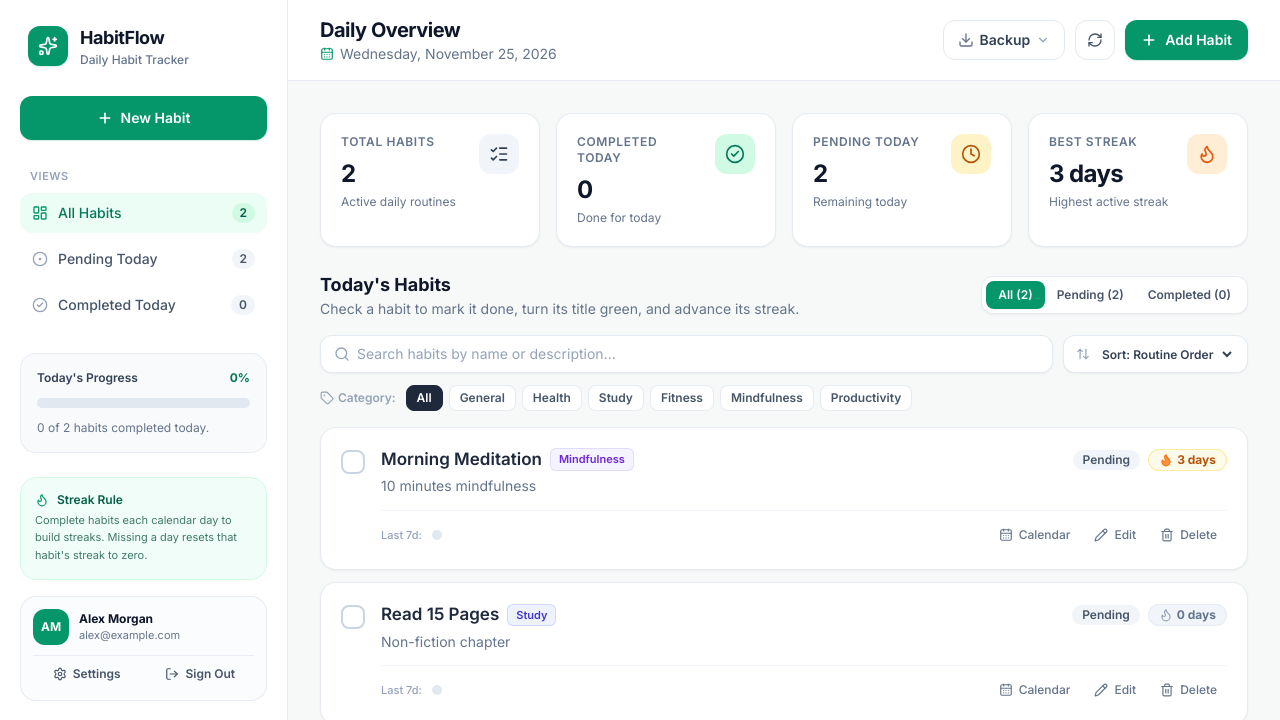
Test case: HabitFlow v2.0 Production UI: Auth, Multi-User Dashboard, Search/Sort & Heatmap › supports search, category filtering, adding categorized habits, and deleting with confirmation
Later steps or results of the test are not shown.
Expected: the checkbox "Morning Meditation" is shown, [381,448,542,471]
Type "Pages" into the search field labelled "Search habits by name or description..." at {"x": 686, "y": 354}, box [320,335,1053,373]
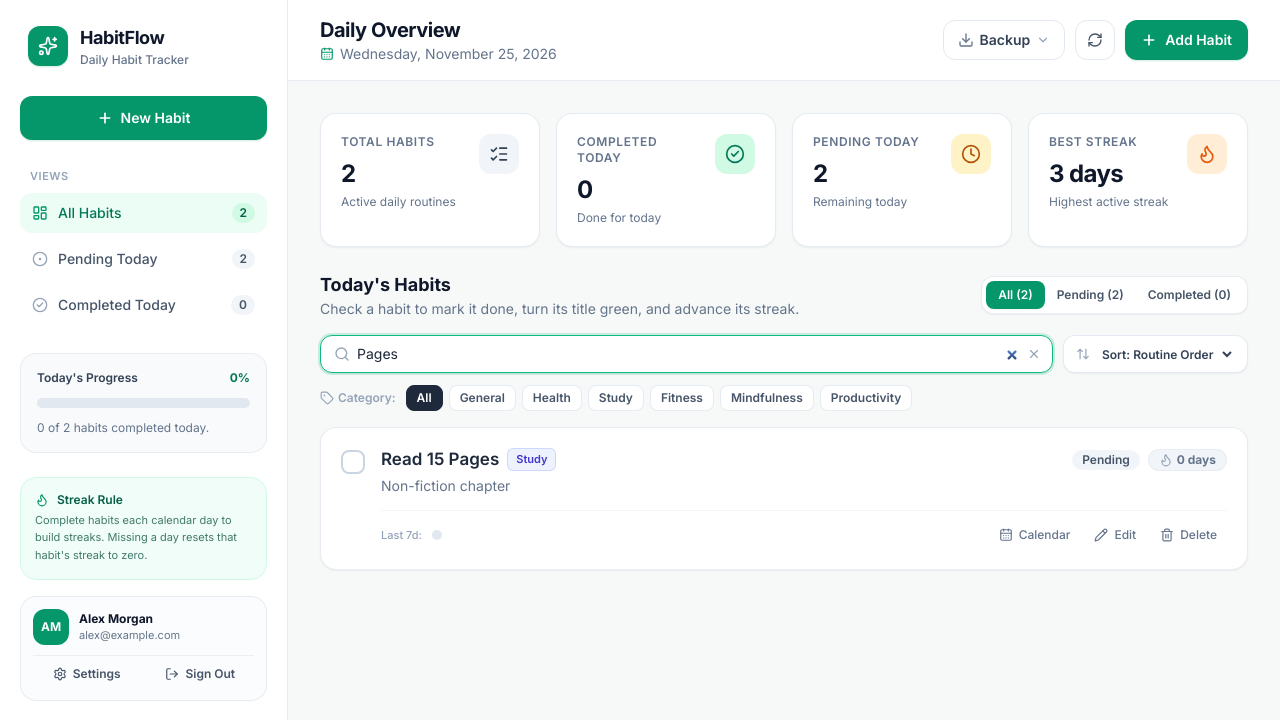
Expected: the checkbox "Read 15 Pages" is shown, [381,448,499,471]
Expected: the checkbox "Morning Meditation" is gone
Click the button named "Clear search" at {"x": 1034, "y": 354}, box [1025,345,1043,363]
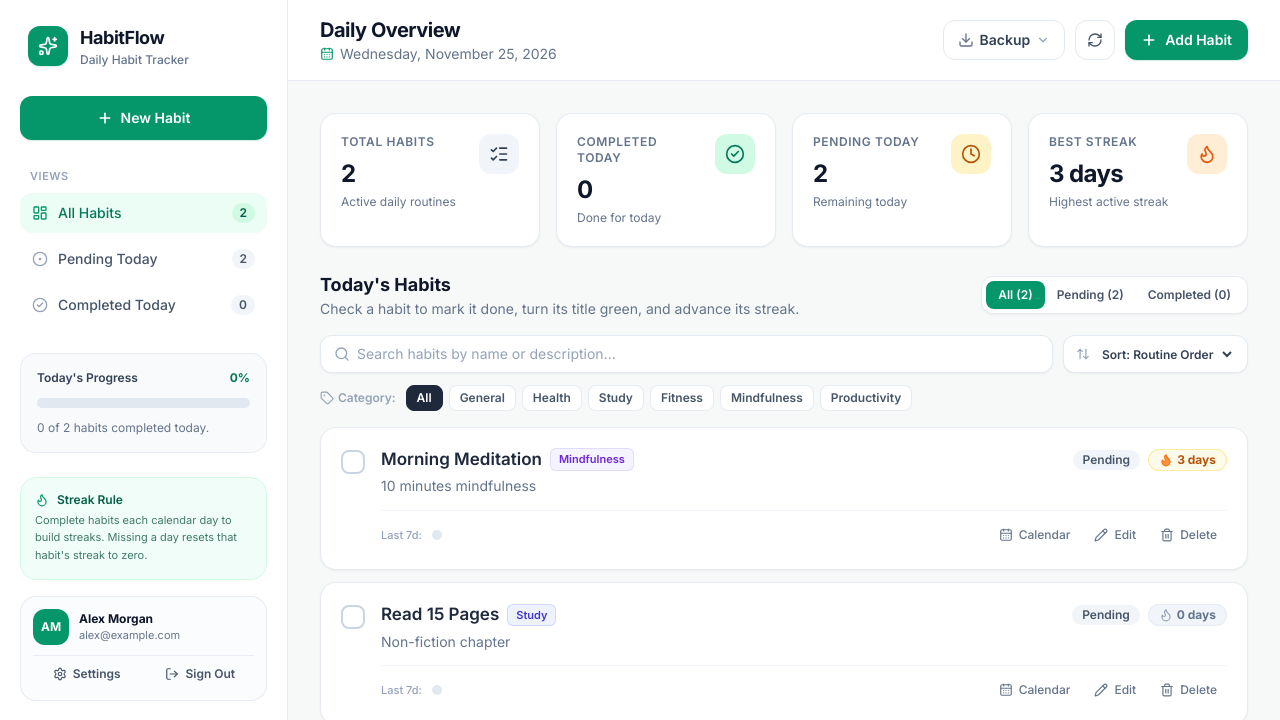
Click the button "Study" at {"x": 616, "y": 398}, box [588,385,644,411]
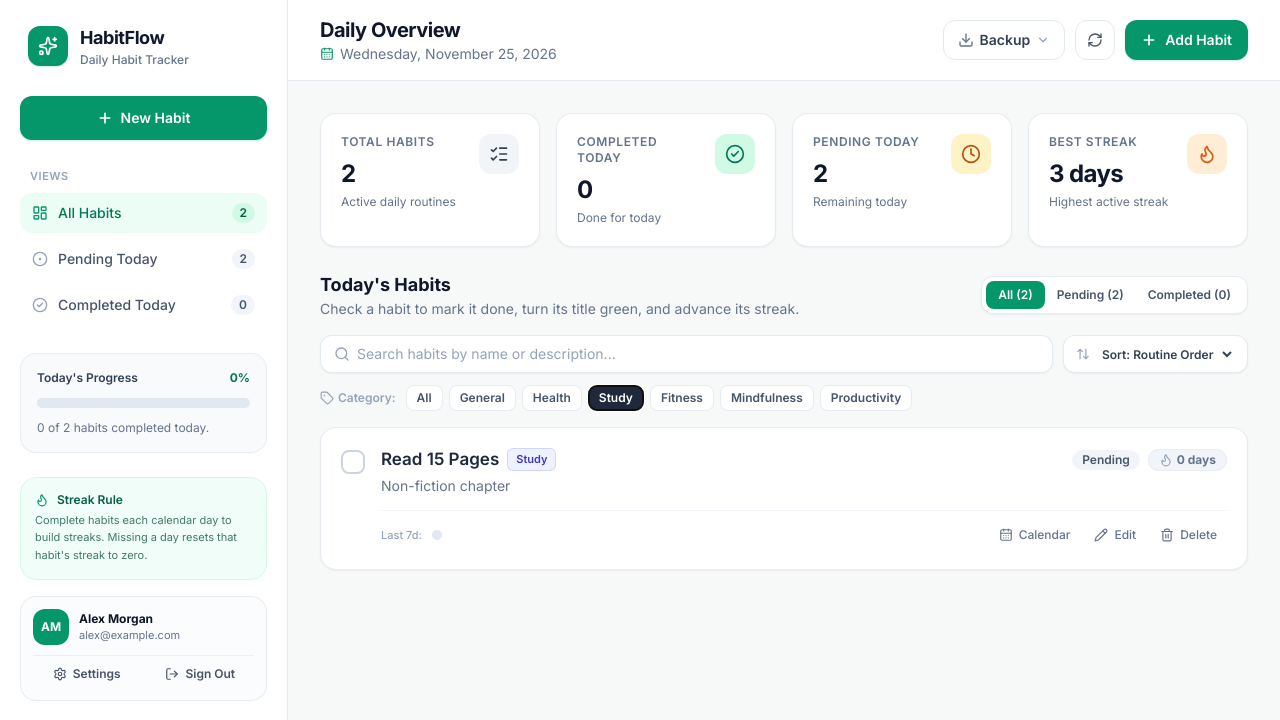
Expected: the checkbox "Read 15 Pages" is shown, [381,448,499,471]
Expected: the checkbox "Morning Meditation" is gone
